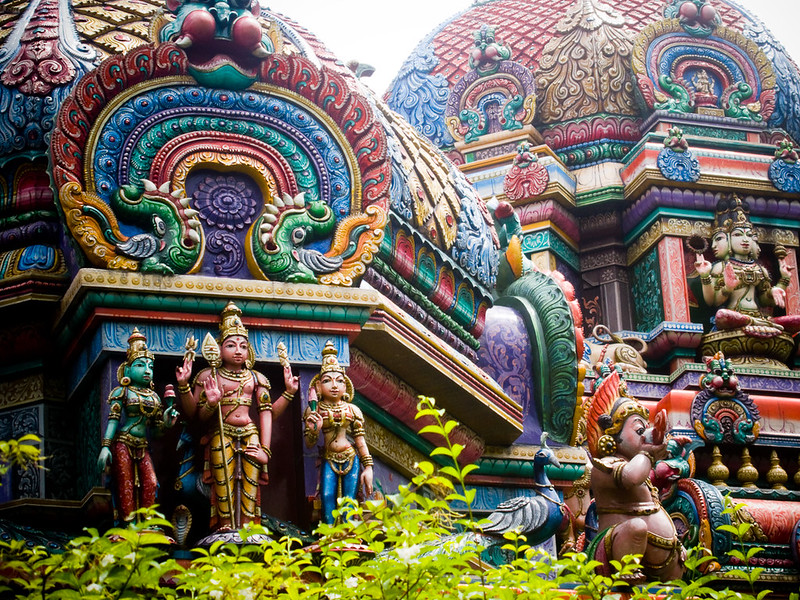Hindu Temple: (6, 15, 793, 561)
